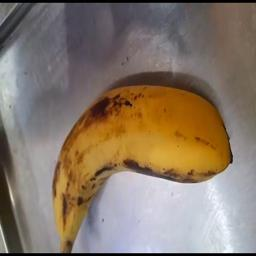Banana Semirotten: (54, 57, 239, 204)
